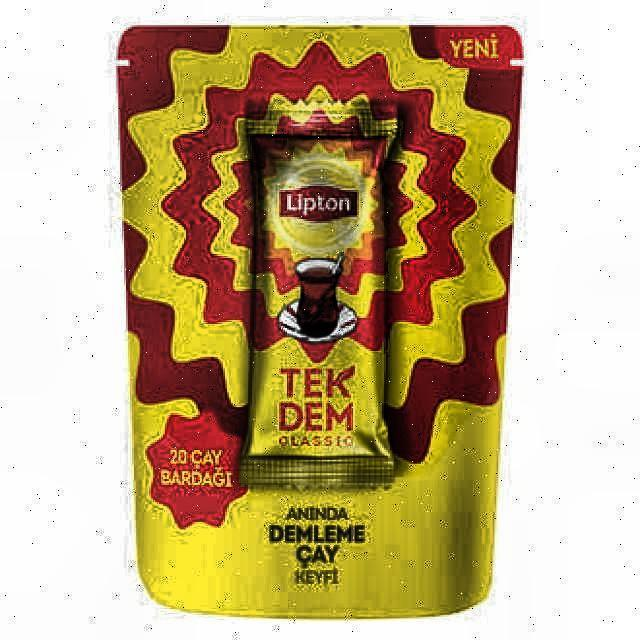plastic: (115, 25, 525, 623)
